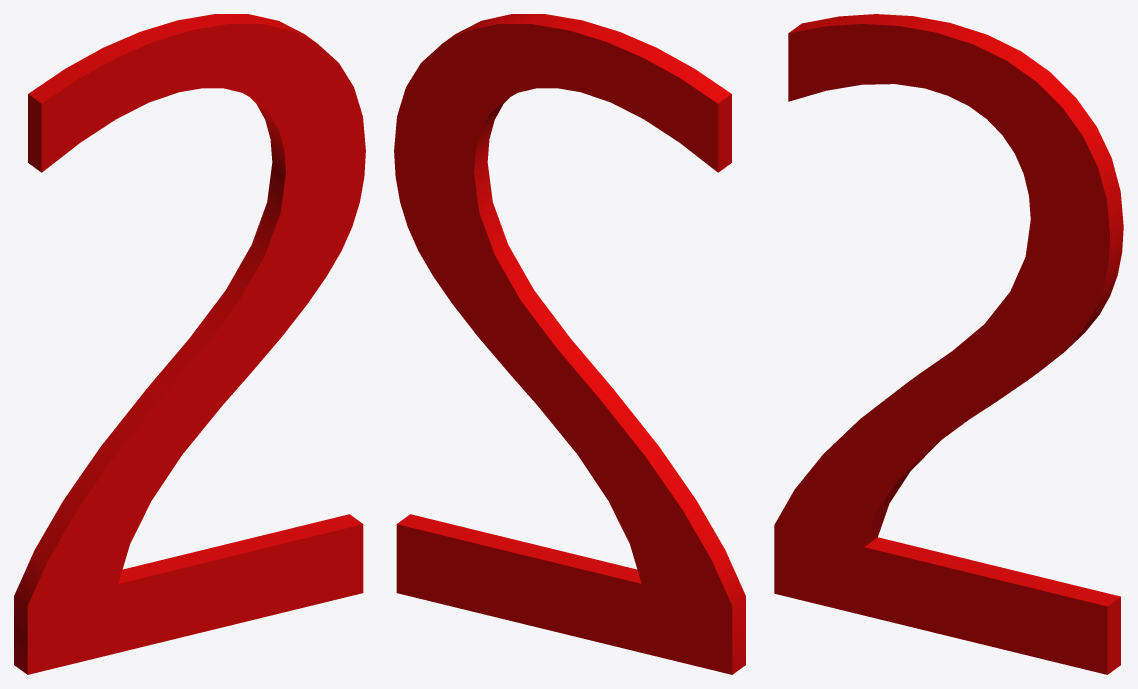
The picture shows the model from 3 angles, left to right: view 1: azimuth 30°, elevation 25°; view 2: azimuth 150°, elevation 25°; view 3: azimuth 330°, elevation 25°; orthographic projection.
Parts seen in each view (by area): view 1: typeMesh1; view 2: typeMesh1; view 3: typeMesh1.
Boxes of the visible parts, bbox=[...] form: typeMesh1: bbox=[14, 14, 365, 674]; typeMesh1: bbox=[394, 14, 745, 674]; typeMesh1: bbox=[774, 14, 1123, 674].
Bounding box in the file's own units: 0.3583 × 0.6122 × 0.025.
